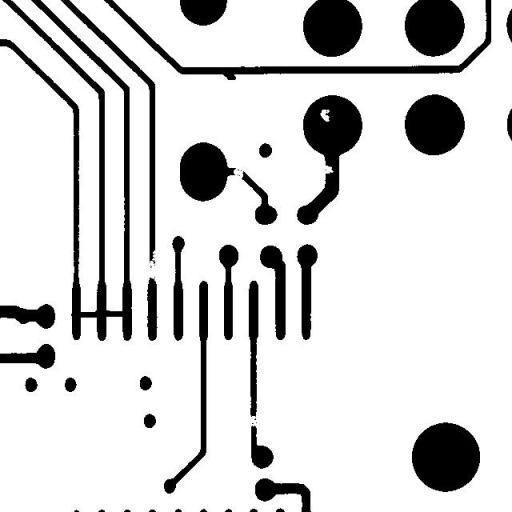mousebite: (314, 158, 340, 180)
open: (136, 242, 165, 288), (226, 158, 250, 192), (237, 408, 266, 434)
pin-hole: (312, 102, 337, 128)
short: (63, 302, 107, 325), (90, 302, 131, 324)
spur: (214, 63, 244, 87)
